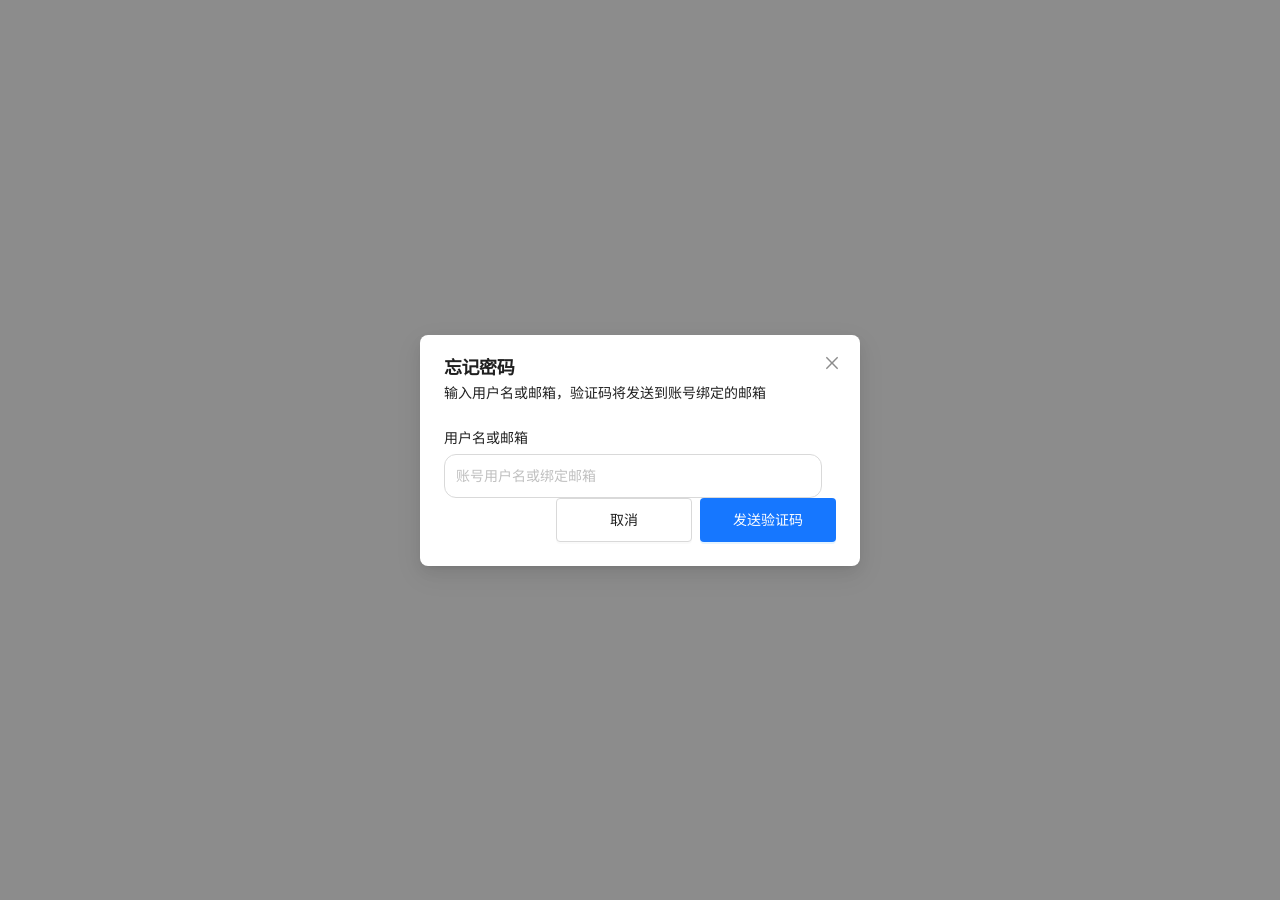
Scenario: ForgotPasswordDialog › 第一步：含 @ 但格式非法时提示邮箱格式错误
The image size is (1280, 900).
Step 1. Type "bad@email" into the field labelled "用户名或邮箱" → (633, 476), box [444,454,822,498]
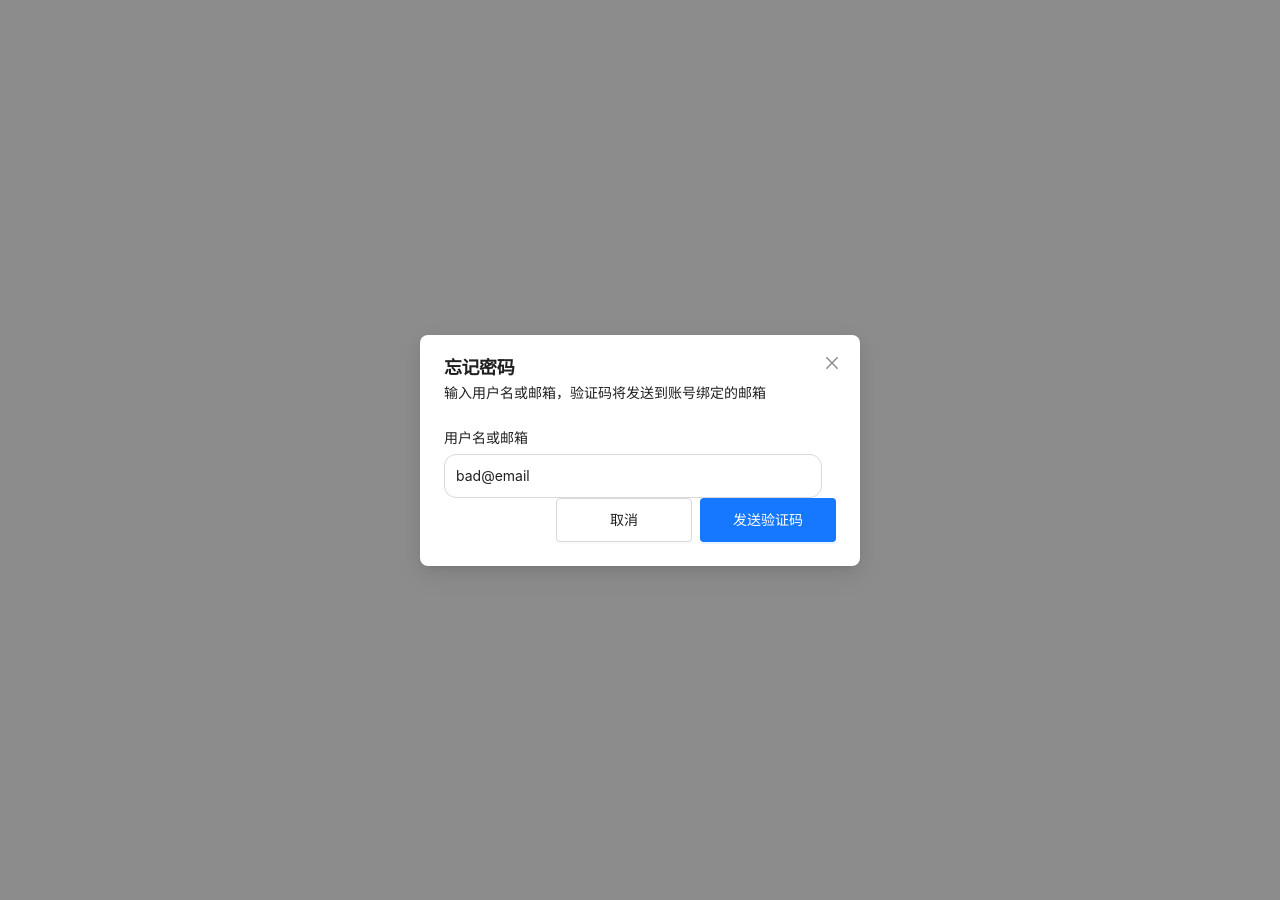
Step 2. Click the button "发送验证码" → (768, 520), box [700,498,836,542]
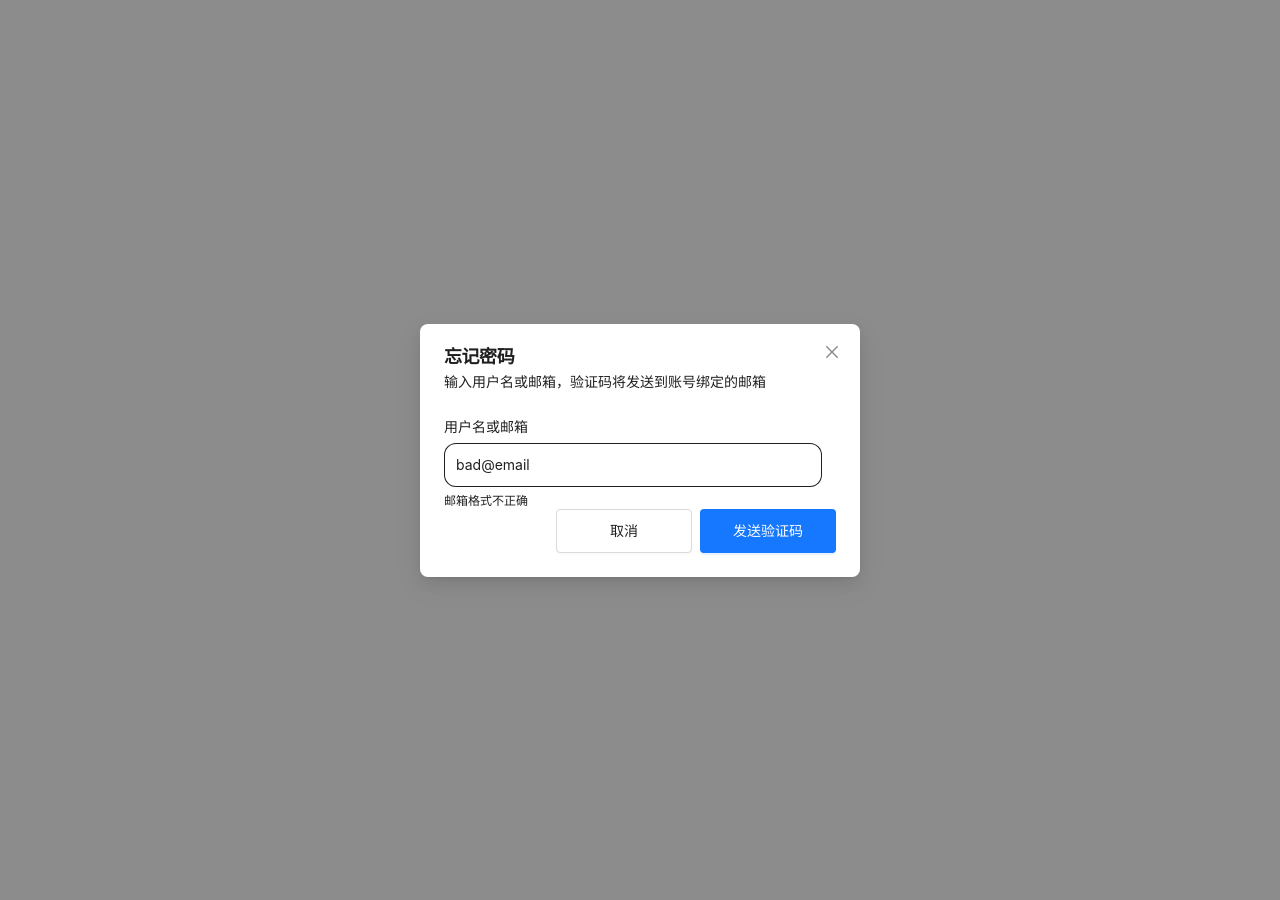
Expected: the text "邮箱格式不正确" is shown, [444,492,528,508]
